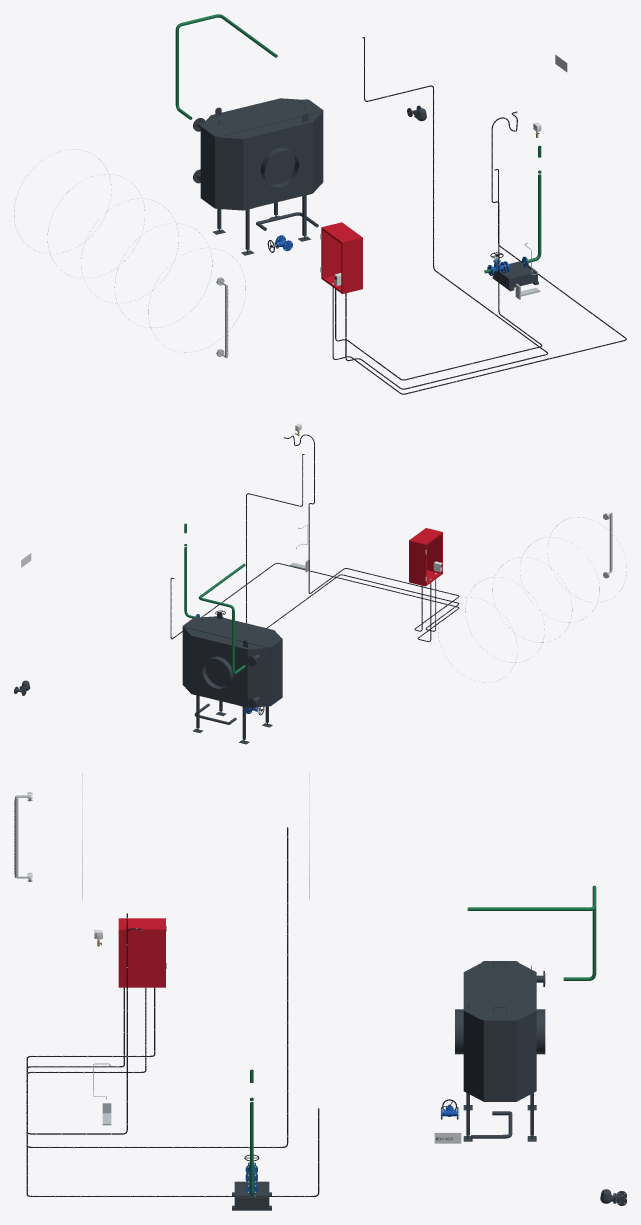
File: s4000-2-vZLnJXxW.glb
3 renders of one model, top to bottom at view 1: azimuth 30°, elevation 25°; view 2: azimuth 150°, elevation 25°; view 3: azimuth 270°, elevation 25°, orthographic. The views are drawn at different scales.
Visible parts, largest first — view 1: EQS2-4000 CAD 0, EQS2-4000 CAD 3, control_cabinet / control_cabinet_0.npz, EQS2-4000 CAD 1, gpz_drive_cable / black, wiring_pressure_transmitter / black, wiring_pump_2 / black, from_economizer / green, pump_branch_1 / dark, deaerator_details / steel; view 2: EQS2-4000 CAD 0, EQS2-4000 CAD 3, control_cabinet / control_cabinet_0.npz, EQS2-4000 CAD 2, wiring_pump_2 / black, wiring_pressure_transmitter / black, gpz_drive_cable / black, deaerator_details / steel, from_economizer / green; view 3: EQS2-4000 CAD 3, control_cabinet / control_cabinet_0.npz, EQS2-4000 CAD 0, gpz_drive_cable / black, from_economizer / green, wiring_pressure_transmitter / black, pump_branch_1 / dark, wiring_pump_2 / black, deaerator_details / steel.
Boxes of the visible parts, x1,y1,x2,y2 form: EQS2-4000 CAD 0: (213, 122, 312, 255); EQS2-4000 CAD 3: (200, 98, 323, 208); control_cabinet / control_cabinet_0.npz: (320, 222, 362, 293); EQS2-4000 CAD 1: (215, 137, 243, 210); gpz_drive_cable / black: (345, 37, 547, 389); wiring_pressure_transmitter / black: (335, 112, 542, 380); wiring_pump_2 / black: (332, 169, 626, 394); from_economizer / green: (175, 14, 277, 119); pump_branch_1 / dark: (492, 261, 538, 291); deaerator_details / steel: (14, 149, 245, 358); EQS2-4000 CAD 0: (191, 635, 272, 744); EQS2-4000 CAD 3: (182, 612, 282, 705); control_cabinet / control_cabinet_0.npz: (409, 528, 442, 586); EQS2-4000 CAD 2: (246, 648, 270, 708); wiring_pump_2 / black: (170, 562, 459, 641); wiring_pressure_transmitter / black: (285, 434, 459, 631); gpz_drive_cable / black: (246, 454, 459, 631); deaerator_details / steel: (438, 512, 626, 682); from_economizer / green: (198, 563, 245, 674); EQS2-4000 CAD 3: (463, 961, 536, 1101); control_cabinet / control_cabinet_0.npz: (118, 918, 166, 987); EQS2-4000 CAD 0: (455, 1009, 545, 1141); gpz_drive_cable / black: (26, 827, 288, 1147); from_economizer / green: (467, 885, 596, 980); wiring_pressure_transmitter / black: (26, 913, 155, 1134); pump_branch_1 / dark: (232, 1181, 271, 1210); wiring_pump_2 / black: (26, 987, 319, 1196); deaerator_details / steel: (14, 773, 309, 899).
Size of the model in its own units: 8.4 by 3.71 by 6.88.
